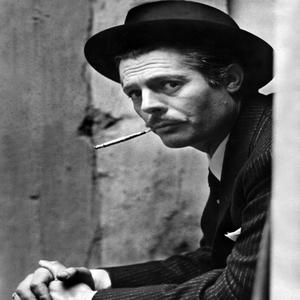cigarette: (91, 127, 154, 150)
